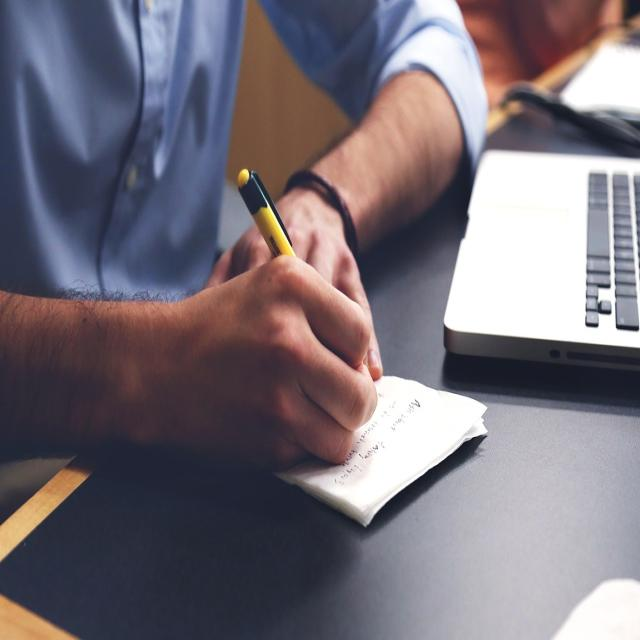pen: (236, 168, 303, 273)
